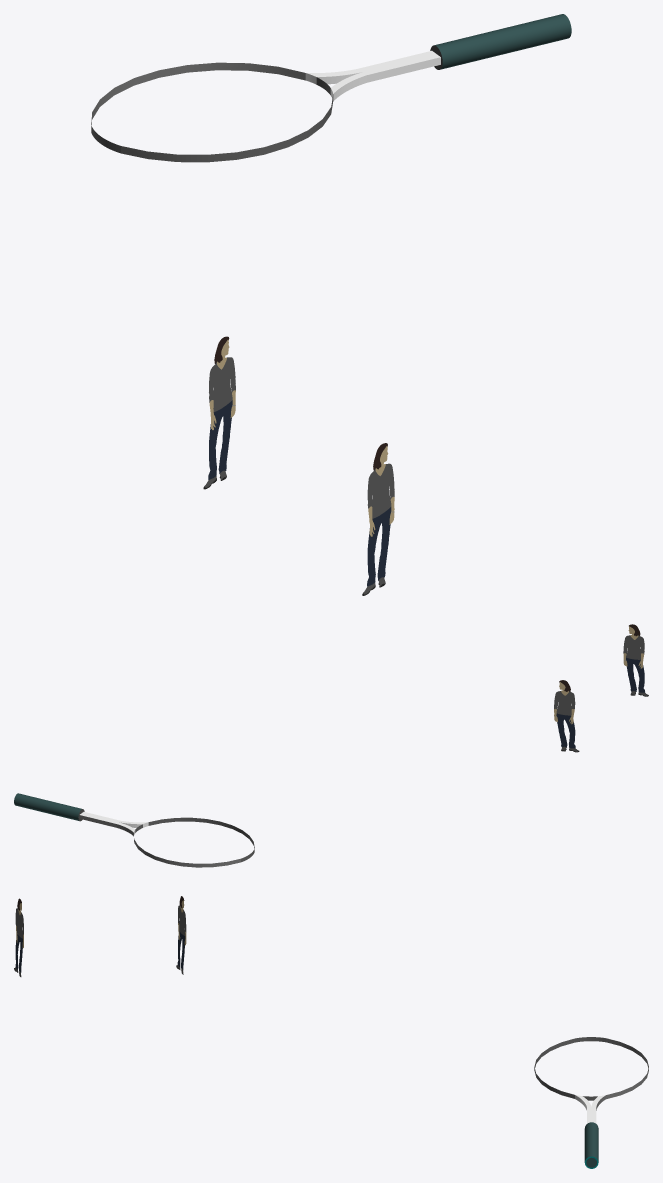
The model's file is badminto+tennis+racket.obj.
The picture shows the model from 3 angles, top to bottom: view 1: azimuth 30°, elevation 25°; view 2: azimuth 150°, elevation 25°; view 3: azimuth 270°, elevation 25°; orthographic projection. The views are drawn at different scales.
Visible parts, largest first — view 1: Mesh3 Model, Mesh2 Susan2 Model, Mesh1 Susan1 Model; view 2: Mesh3 Model, Mesh2 Susan2 Model, Mesh1 Susan1 Model; view 3: Mesh3 Model, Mesh1 Susan1 Model, Mesh2 Susan2 Model.
Part boxes in pixels (x1=…): Mesh3 Model: x1=91, y1=14, x2=571, y2=162; Mesh2 Susan2 Model: x1=362, y1=443, x2=394, y2=595; Mesh1 Susan1 Model: x1=203, y1=336, x2=235, y2=489; Mesh3 Model: x1=14, y1=793, x2=254, y2=867; Mesh2 Susan2 Model: x1=623, y1=624, x2=648, y2=696; Mesh1 Susan1 Model: x1=554, y1=680, x2=579, y2=752; Mesh3 Model: x1=534, y1=1037, x2=648, y2=1168; Mesh1 Susan1 Model: x1=176, y1=896, x2=186, y2=974; Mesh2 Susan2 Model: x1=14, y1=898, x2=23, y2=976.
Bounding box in the file's own units: 363 × 70.17 × 493.
